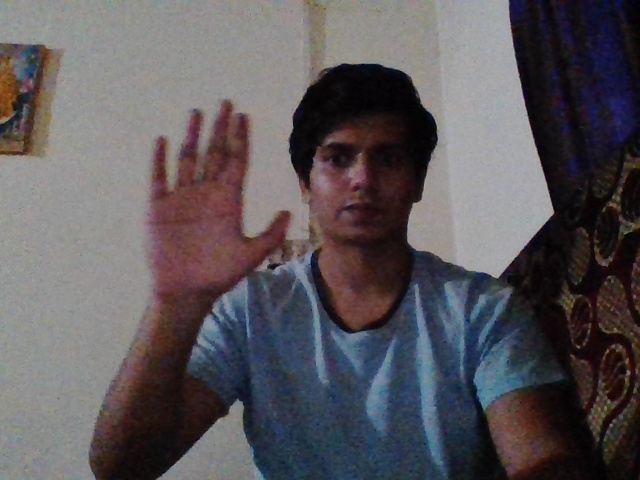hello: (148, 95, 293, 296)
